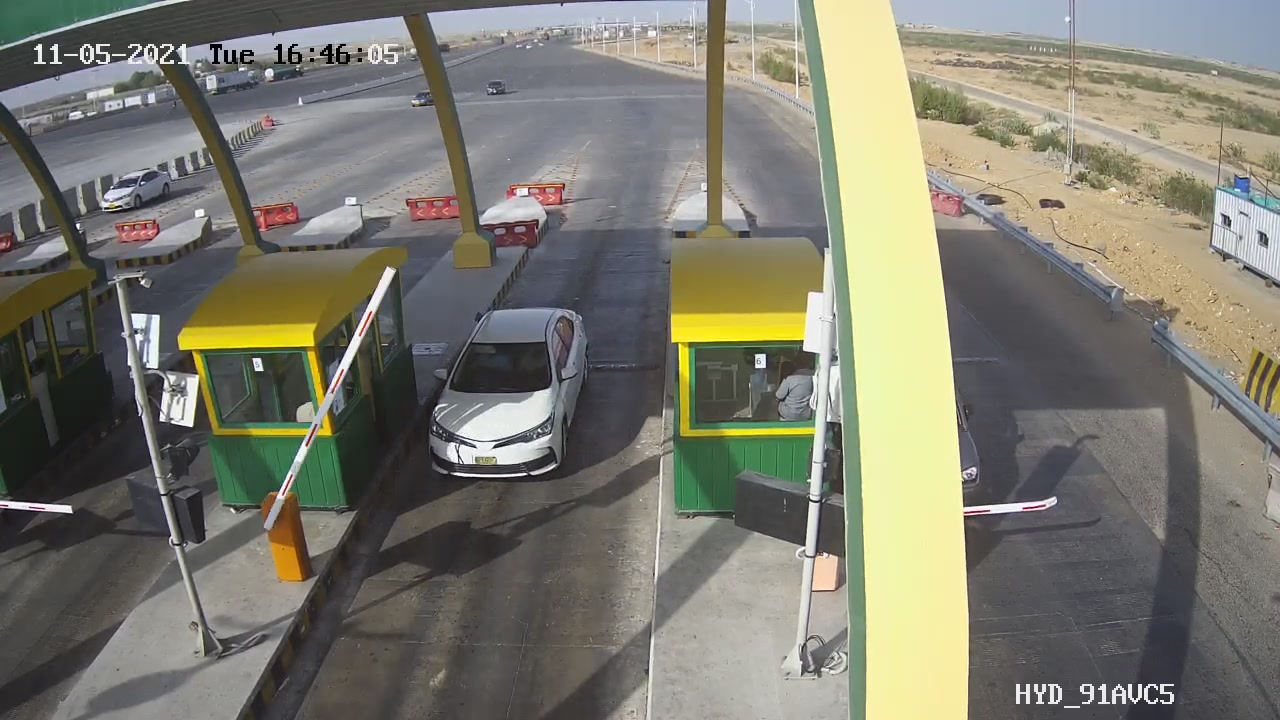F1: (394, 290, 613, 502)
